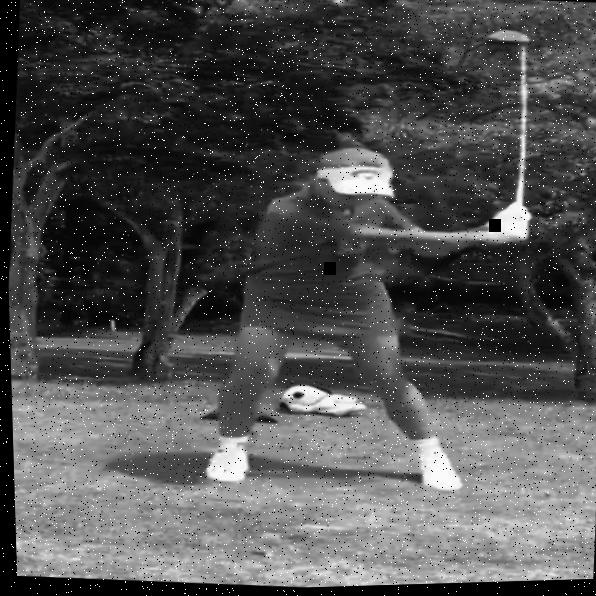ClubHead: (481, 31, 534, 53)
GolfBall: (255, 531, 277, 548)
